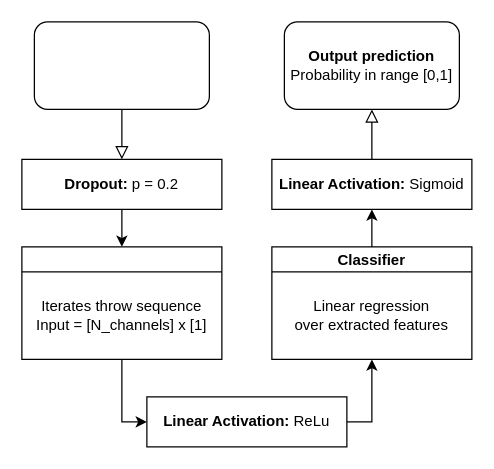
Image size: 494x469. Some labels were removed from this diagram. The box of each missing label's shape, as (x1, y1, x2, y2) in pixels:
Input data Matrix [N_channels] x [Seq_length]: (33, 21, 209, 109)
Recurrent Block: (21, 246, 222, 359)
